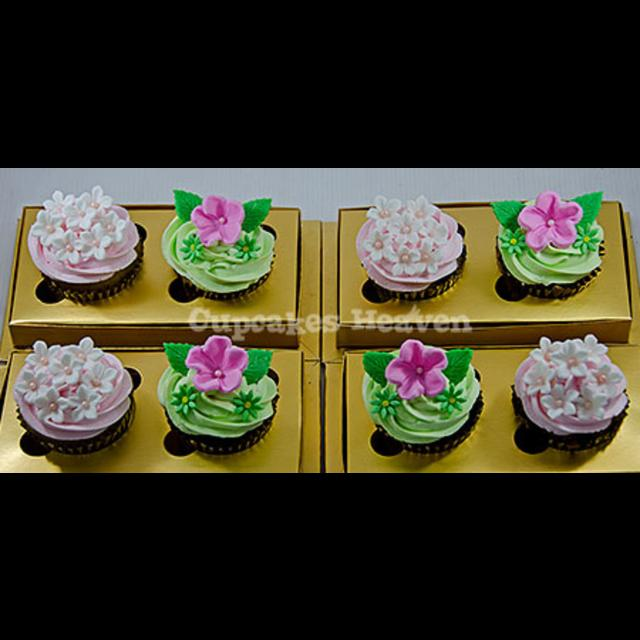Flower: (26, 184, 136, 266), (16, 334, 116, 424), (522, 332, 622, 422), (361, 191, 454, 279), (384, 338, 446, 400), (516, 190, 584, 244), (185, 337, 243, 393), (190, 191, 246, 245), (229, 385, 265, 421), (438, 383, 469, 415), (172, 383, 202, 415), (372, 385, 398, 421), (497, 224, 525, 256), (574, 222, 598, 250)
